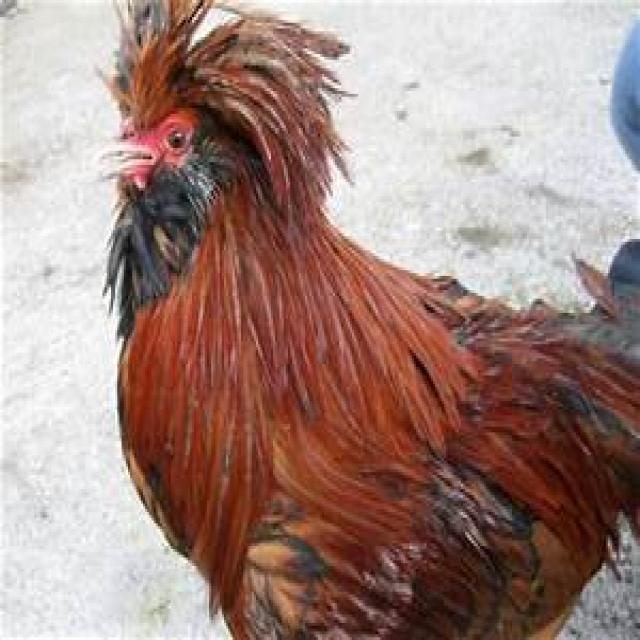animal: (94, 0, 638, 637)
